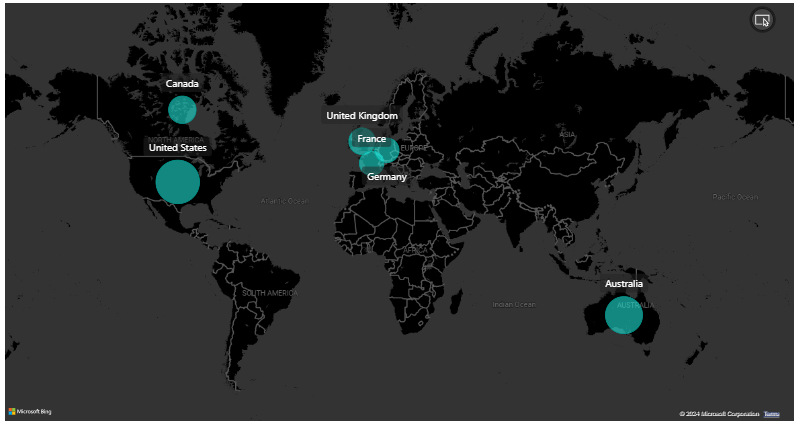

This screenshot's page, from the dashboard's own definition file:
{"tool":"powerbi","page":{"name":"Map","canvas":[1280,720],"ordinal":1},"visuals":[{"type":"shape","box":[0,0,45,720],"z":0},{"type":"actionButton","box":[0,606.1,45.5,40.9],"z":0,"group":"g1"},{"type":"slicer","fields":{"Values":["Territory Lookup.Continent"]},"box":[45.1,0,1235.2,87.3],"z":1000},{"type":"actionButton","box":[0,659.1,45.5,40.9],"z":1000,"group":"g1"},{"type":"actionButton","box":[0,548.5,45.5,40.9],"z":2000,"group":"g1"},{"type":"map","fields":{"Category":["Territory Lookup.Country"],"Size":["MeasureTable.ORDERS"]},"box":[71.8,87.3,1187.3,632.4],"z":2000},{"type":"actionButton","box":[0,490.9,45.5,40.9],"z":3000,"group":"g1"},{"type":"group","id":"g1","title":"Nav Buttons","box":[0,490.9,45.5,209.1],"z":3000}]}

Visuals, with their boxes on the page's 1280x720 design canvas (x1, y1, x2, y2). These are canvas units, not pixel positions in the 794x421 screenshot, which may show the page scaled, cropped or inside an application window:
shape: 0 0 45 720
actionButton: 0 606 46 647
slicer - Territory Lookup.Continent: 45 0 1280 87
actionButton: 0 659 46 700
actionButton: 0 548 46 589
map - Territory Lookup.Country x MeasureTable.ORDERS: 72 87 1259 720
actionButton: 0 491 46 532
"Nav Buttons" group: 0 491 46 700
